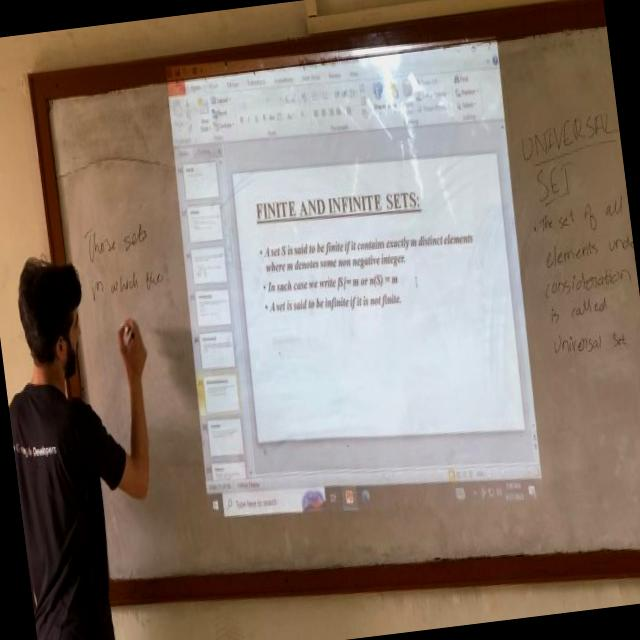Instructor: (0, 227, 126, 640)
Slide: (163, 45, 544, 516)
White-board: (35, 7, 640, 600)
